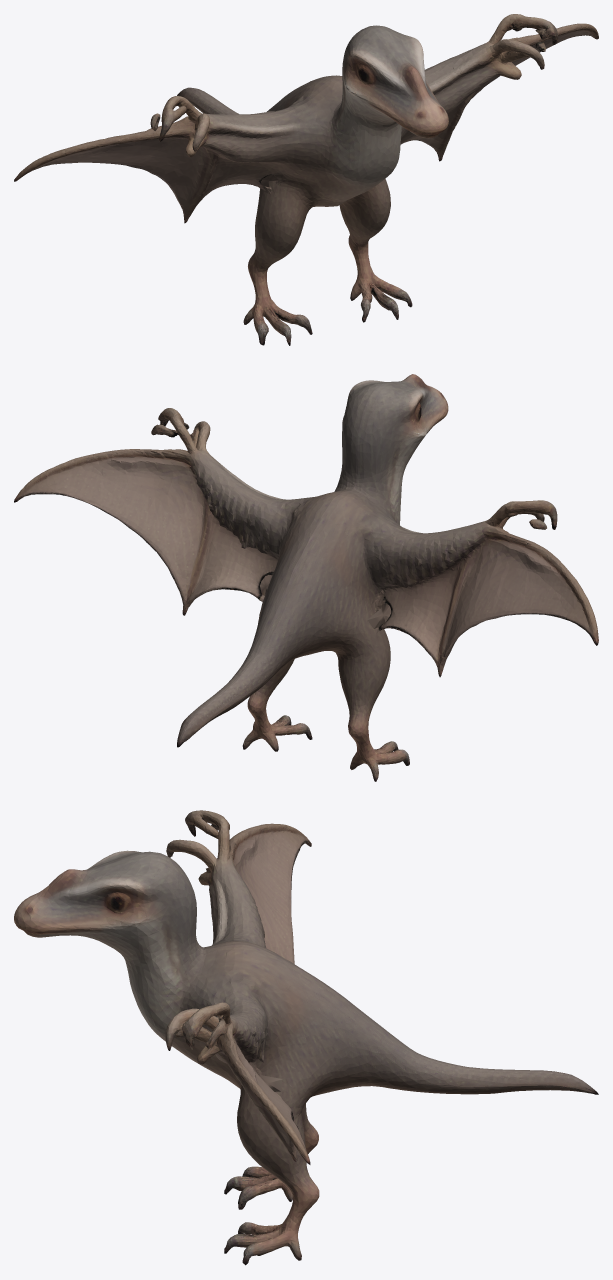
3 views of the same model, one above another, from view 1: azimuth 30°, elevation 25°; view 2: azimuth 150°, elevation 25°; view 3: azimuth 270°, elevation 25° (orthographic). The views are drawn at different scales.
Parts seen in each view (by area): view 1: world; view 2: world; view 3: world.
Boxes of the visible parts, x1,y1,x2,y2 form: world: (14,14,598,345); world: (14,374,598,781); world: (14,810,598,1265).
Size of the model in its own units: 0.9973 by 0.5385 by 0.771.
2 materials, 1 textured.
